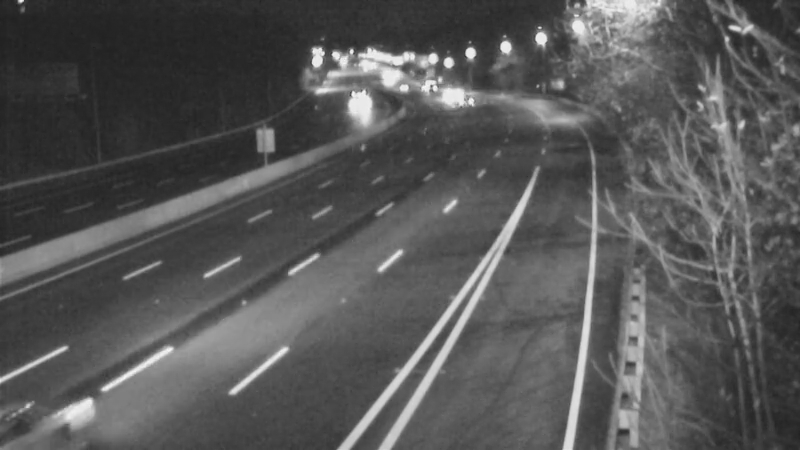vehicle: (404, 60, 454, 110), (378, 65, 428, 115), (425, 67, 475, 117), (440, 75, 490, 125), (329, 77, 379, 127)
